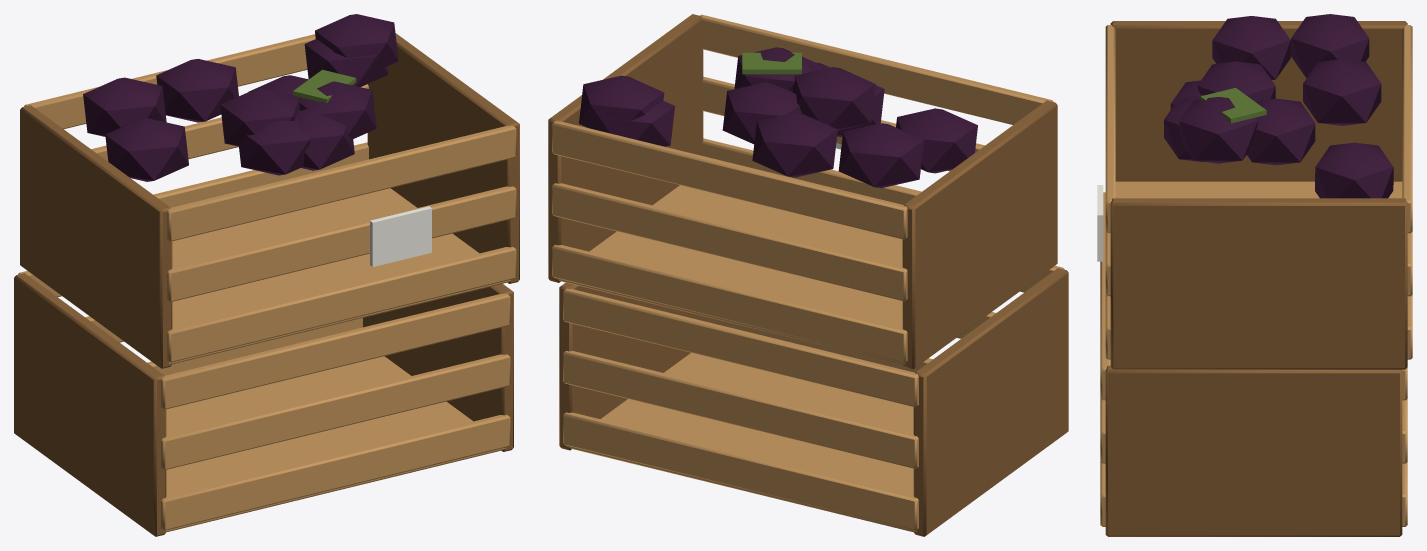
Rendered from cajon.glb.
The picture shows the model from 3 angles, left to right: view 1: azimuth 30°, elevation 25°; view 2: azimuth 150°, elevation 25°; view 3: azimuth 270°, elevation 25°; orthographic projection. The views are drawn at different scales.
Parts seen in each view (by area): view 1: cajon; view 2: cajon; view 3: cajon.
Part boxes in pixels (box(x1,y1,x2,y2)): cajon: box(14, 14, 519, 536); cajon: box(548, 14, 1068, 536); cajon: box(1097, 14, 1412, 536).
Bounding box in the file's own units: 0.87 × 0.8188 × 0.616.
